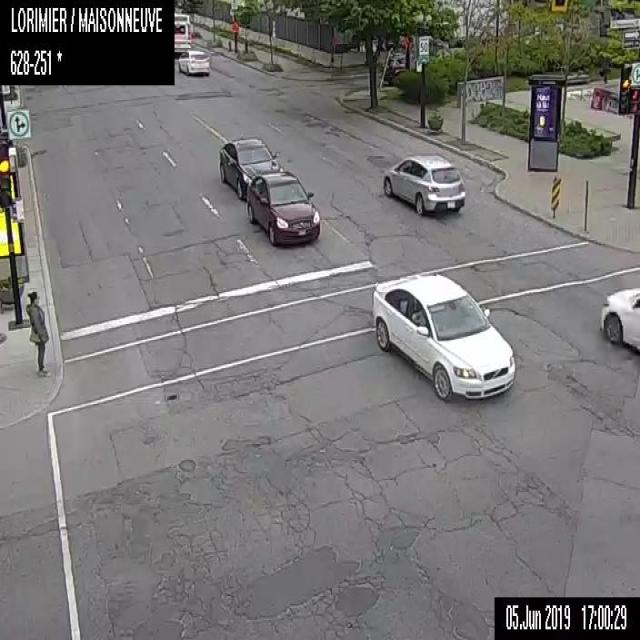bus: (173, 12, 189, 56)
pedestrian: (26, 289, 49, 375)
vehicle: (370, 269, 516, 400), (246, 171, 321, 244), (382, 153, 464, 215), (218, 137, 284, 200), (599, 286, 639, 354), (178, 48, 212, 75), (381, 55, 405, 84)
